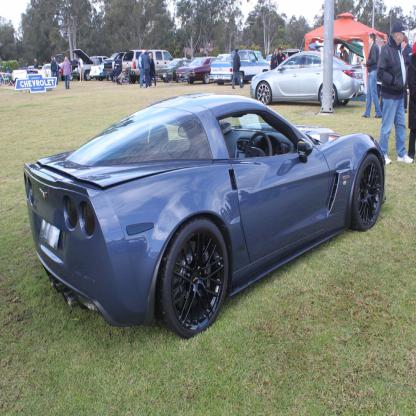Car: (24, 94, 387, 340), (249, 49, 365, 105), (41, 48, 225, 83)
